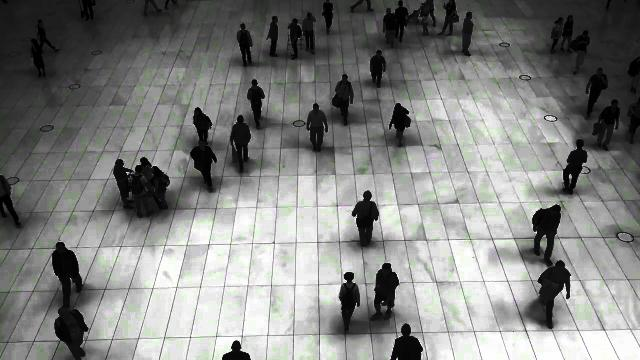berjalan: (535, 259, 575, 333), (48, 238, 86, 310), (368, 259, 402, 321), (530, 201, 562, 261), (563, 137, 589, 201), (332, 72, 356, 128), (195, 142, 218, 200), (584, 65, 608, 119), (388, 98, 412, 152), (231, 112, 249, 176), (248, 78, 270, 129), (32, 18, 60, 55), (572, 28, 592, 75), (368, 48, 390, 88)
